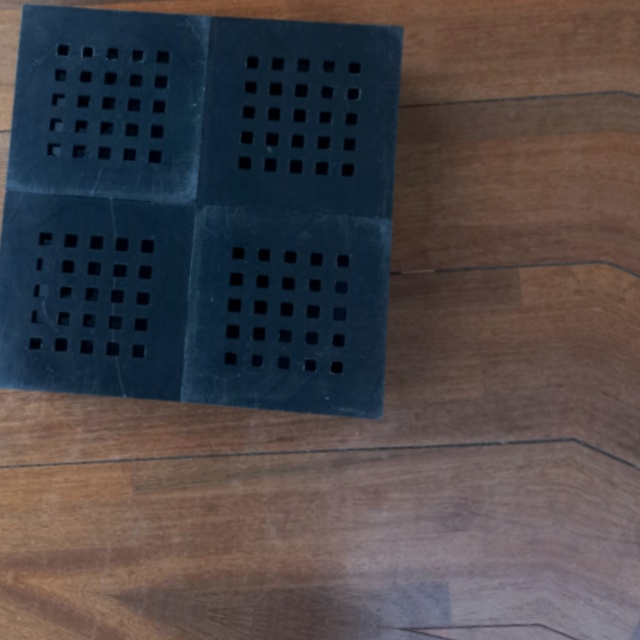pallet: (0, 0, 415, 414)
